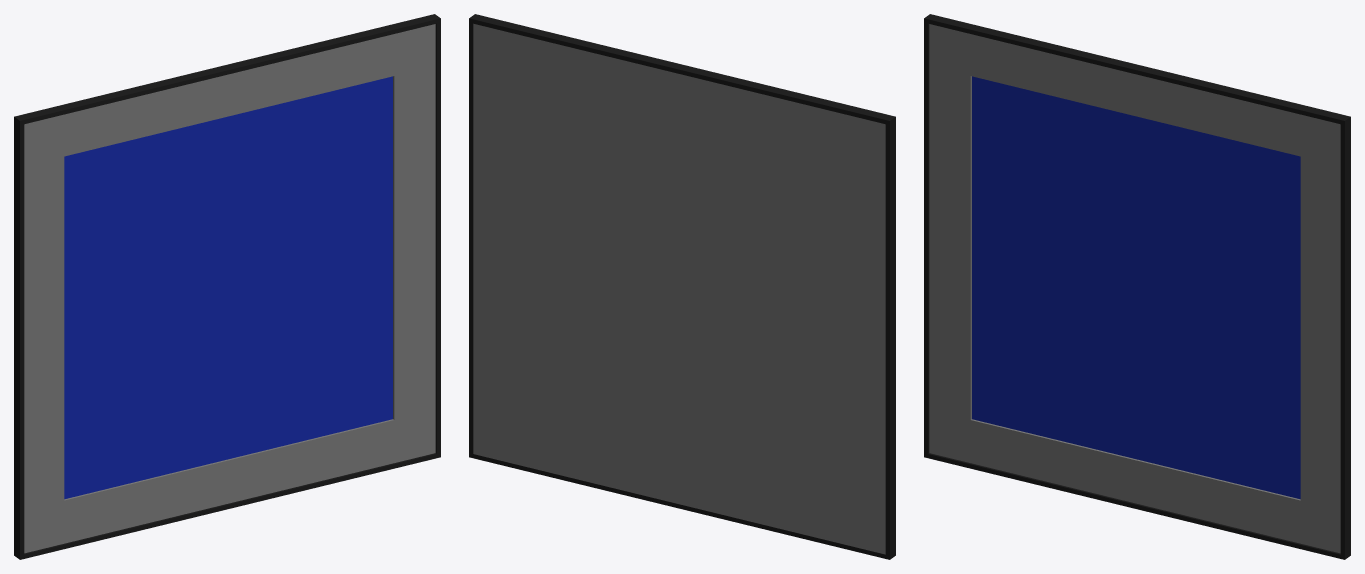
File: Painting_1x1m.fbx
The picture shows the model from 3 angles, left to right: view 1: azimuth 30°, elevation 25°; view 2: azimuth 150°, elevation 25°; view 3: azimuth 330°, elevation 25°; orthographic projection.
Parts seen in each view (by area): view 1: Painting_1x1m; view 2: Painting_1x1m; view 3: Painting_1x1m.
Boxes of the visible parts, x1,y1,x2,y2 form: Painting_1x1m: (14, 14, 440, 559); Painting_1x1m: (469, 14, 895, 559); Painting_1x1m: (924, 14, 1350, 559).
Size of the model in its own units: 102 by 102 by 2.5.
